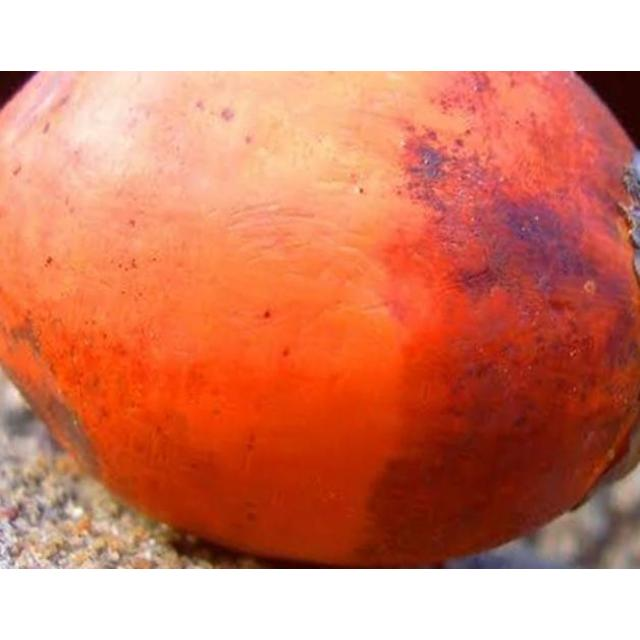good: (0, 71, 639, 568)
